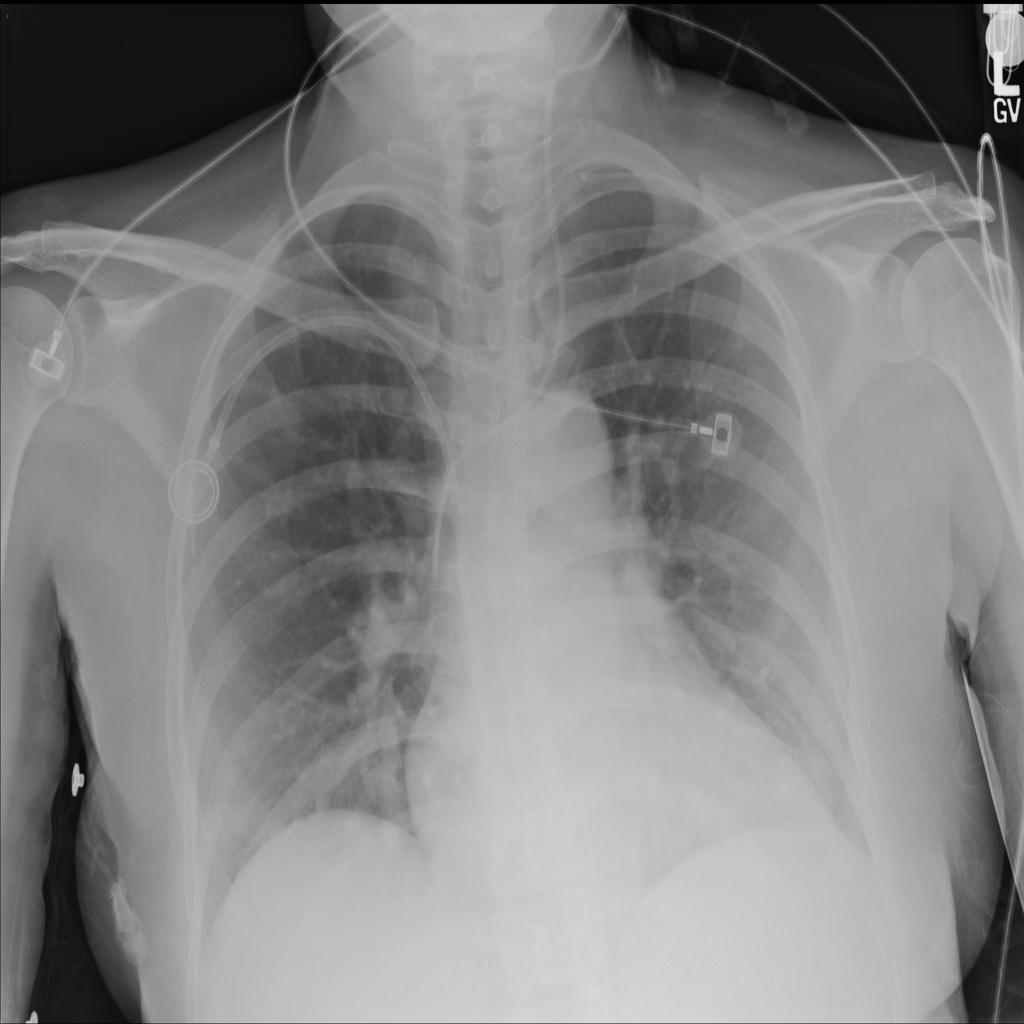nodule: (762, 744, 847, 821), (240, 526, 310, 609), (201, 773, 269, 857), (733, 351, 781, 404)
